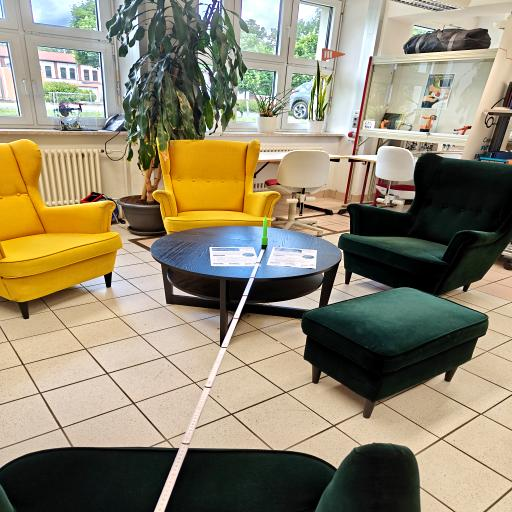Probe-Detection: (261, 215, 268, 245)
